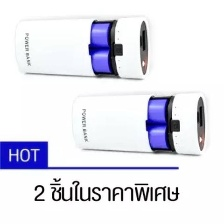battery: (76, 122, 176, 153), (81, 95, 173, 128), (26, 47, 120, 76), (24, 18, 121, 46)
